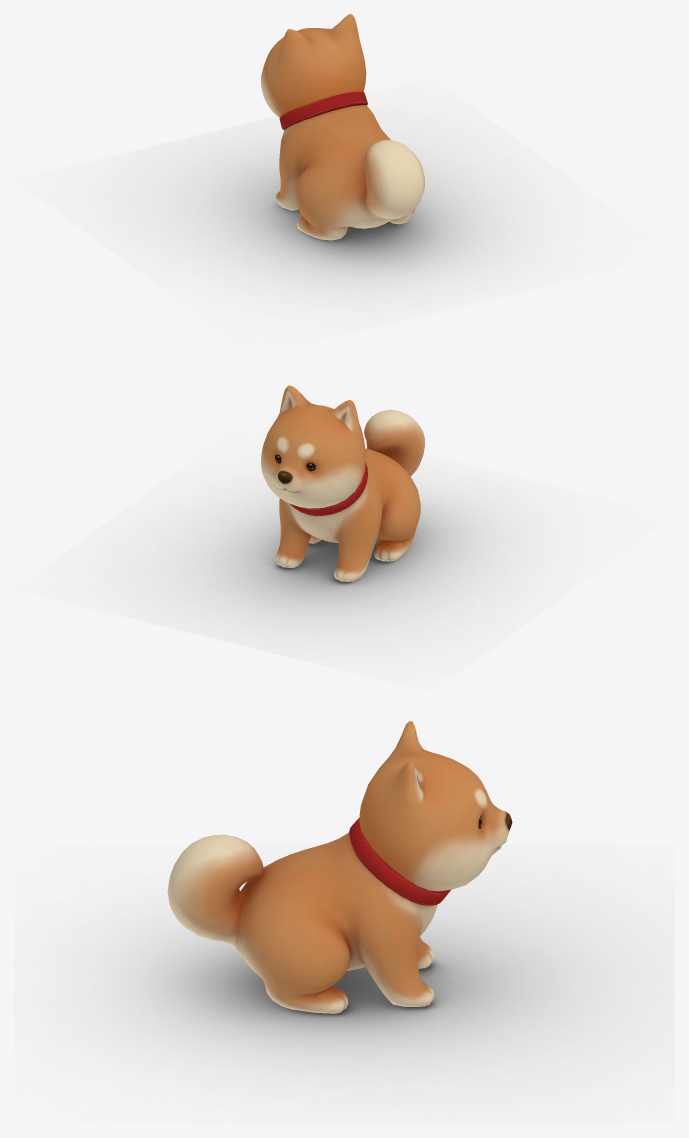
The model's file is shiba.glb.
The picture shows the model from 3 angles, top to bottom: view 1: azimuth 30°, elevation 25°; view 2: azimuth 150°, elevation 25°; view 3: azimuth 270°, elevation 25°; orthographic projection. The views are drawn at different scales.
Parts seen in each view (by area): view 1: Plane; view 2: Plane; view 3: Plane.
Boxes of the visible parts, x1,y1,x2,y2 form: Plane: (14, 14, 674, 356); Plane: (14, 385, 674, 692); Plane: (14, 721, 674, 1123).
Size of the model in its own units: 3.4 by 1.38 by 3.4.
Materials: 1 (1 with a texture image).
